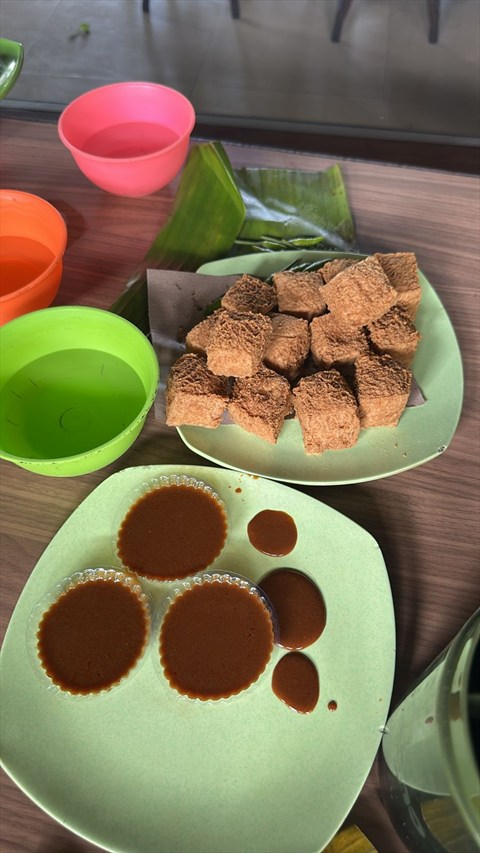Tahu Goreng: (13, 105, 401, 726)
